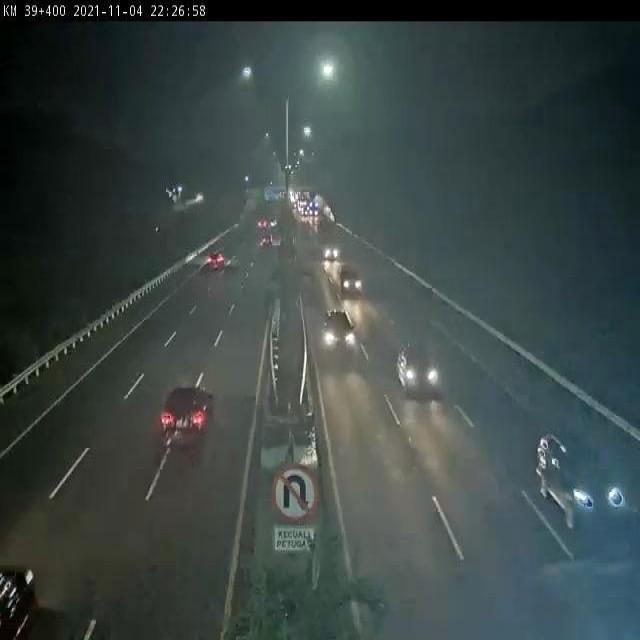car: (534, 426, 626, 530), (158, 382, 213, 446), (393, 338, 441, 393), (321, 308, 355, 353), (338, 264, 364, 299), (206, 249, 225, 272)
